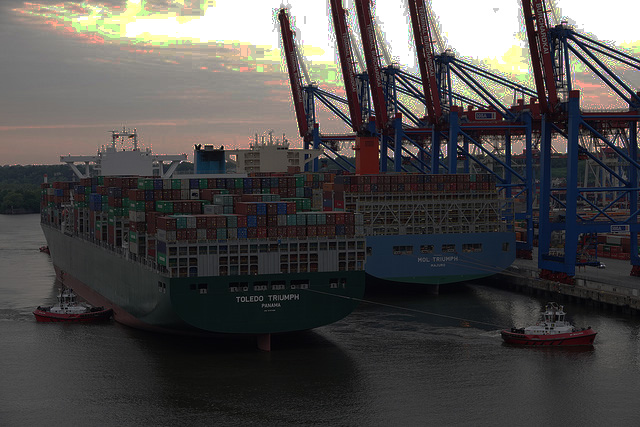container_ship: (40, 126, 364, 352)
tug_boat: (498, 295, 598, 347), (32, 280, 109, 328)
